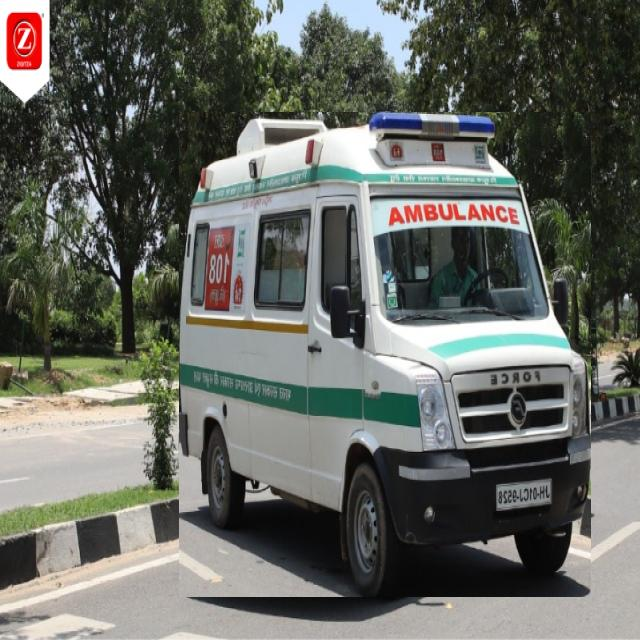emergency: (179, 112, 591, 597)
